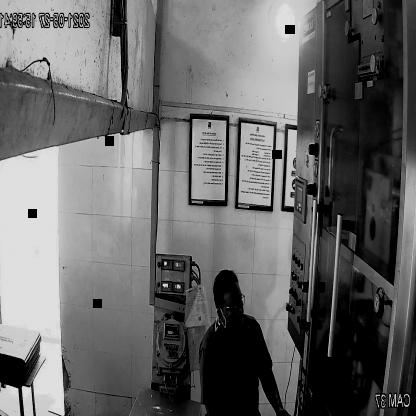goggles: (218, 292, 245, 316)
